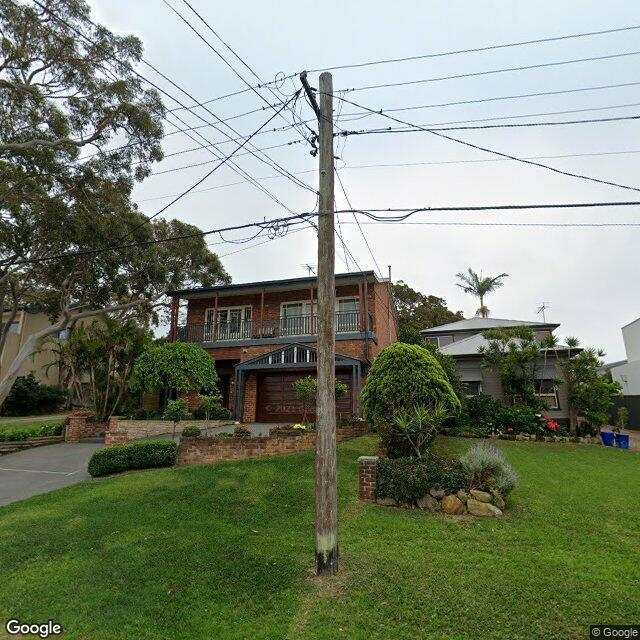crossarm: (300, 72, 320, 124)
timber-pole: (316, 71, 338, 576)
